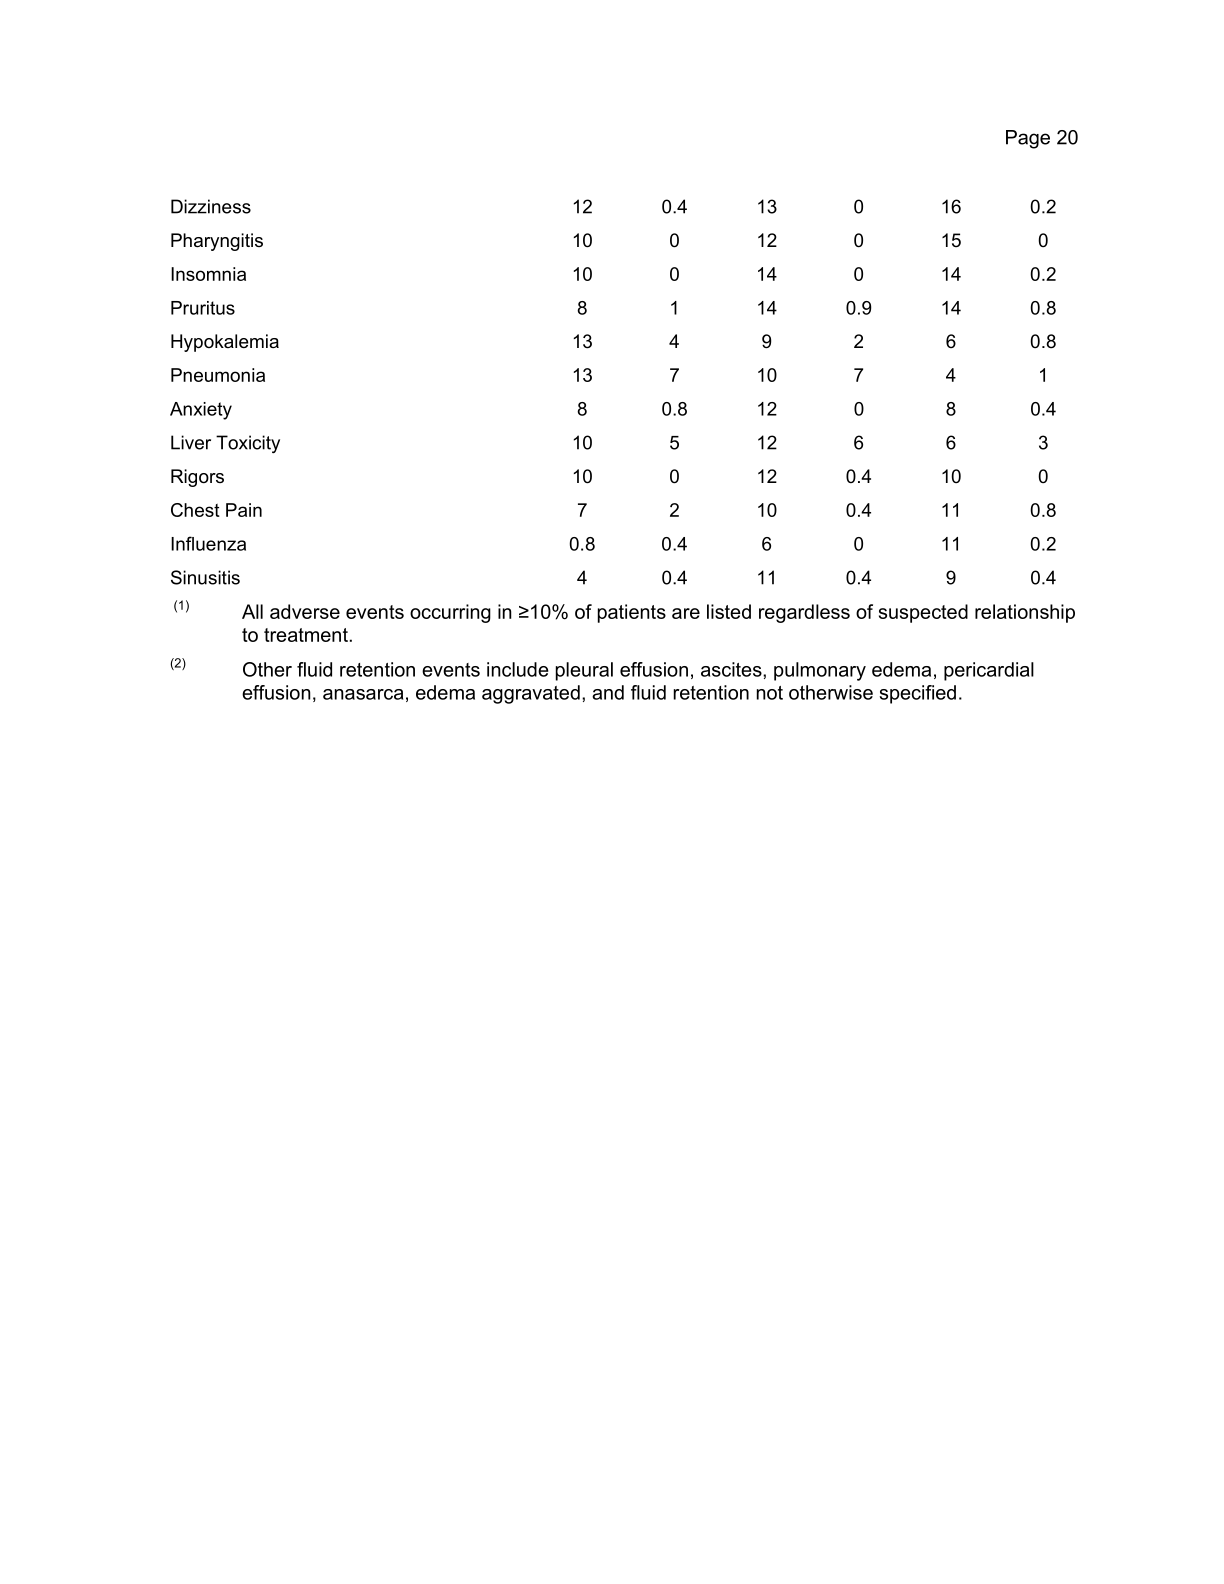nolines: (165, 195, 1061, 588)
